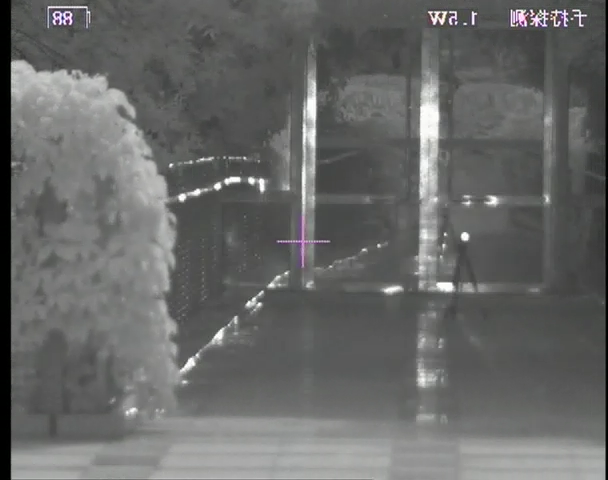my: (460, 231, 470, 242)
